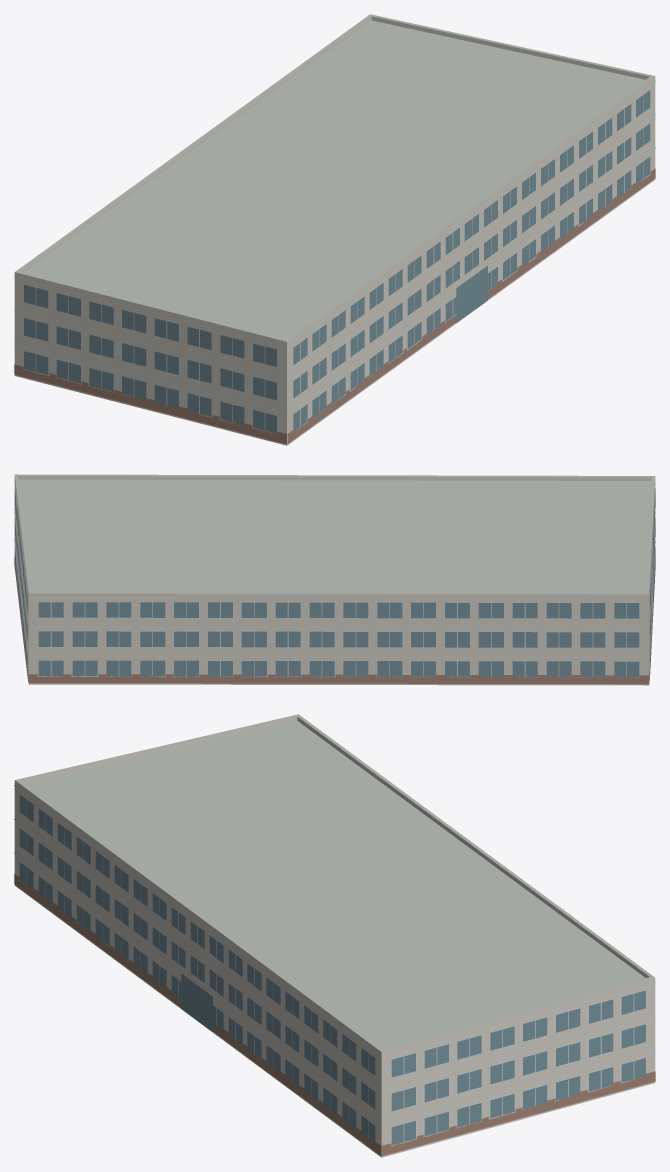
File: public-2872dad4-afb5-4383-8f4c-2cac512140cf.glb
3 renders of one model, top to bottom at view 1: azimuth 30°, elevation 25°; view 2: azimuth 150°, elevation 25°; view 3: azimuth 270°, elevation 25°, orthographic. The views are drawn at different scales.
Parts seen in each view (by area): view 1: public-2872dad4-afb5-4383-8f4c-2cac512140cf; view 2: public-2872dad4-afb5-4383-8f4c-2cac512140cf; view 3: public-2872dad4-afb5-4383-8f4c-2cac512140cf.
Part boxes in pixels (x1,y1,x2,y2): public-2872dad4-afb5-4383-8f4c-2cac512140cf: (14,14,655,445); public-2872dad4-afb5-4383-8f4c-2cac512140cf: (14,474,655,685); public-2872dad4-afb5-4383-8f4c-2cac512140cf: (14,714,655,1157).
Size of the model in its own units: 62.93 by 9.15 by 50.43.
